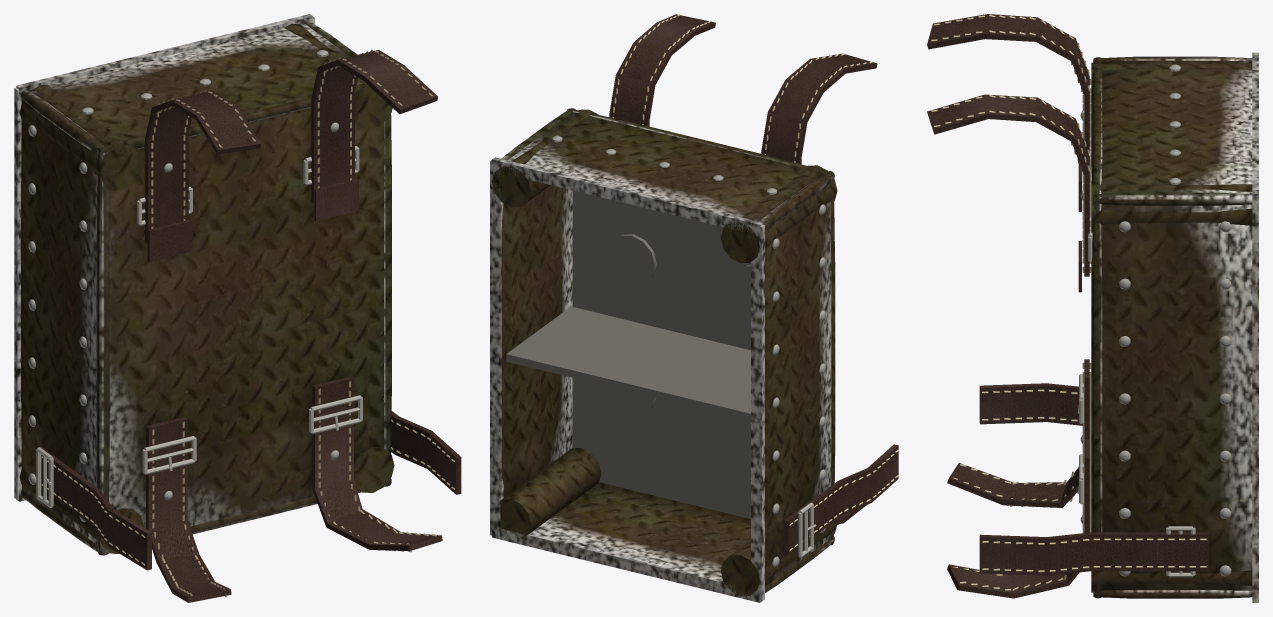
File: ranec-rk1.glb
3 renders of one model, left to right at view 1: azimuth 30°, elevation 25°; view 2: azimuth 150°, elevation 25°; view 3: azimuth 270°, elevation 25°, orthographic. The views are drawn at different scales.
Parts seen in each view (by area): view 1: ranec_rk1; view 2: ranec_rk1; view 3: ranec_rk1.
Boxes of the visible parts, <box> form: ranec_rk1: <box>14,14,461,602</box>; ranec_rk1: <box>490,14,898,602</box>; ranec_rk1: <box>927,14,1258,602</box>.
Bounding box in the file's own units: 0.333 × 0.4772 × 0.2973.
6 materials, 2 textured.
